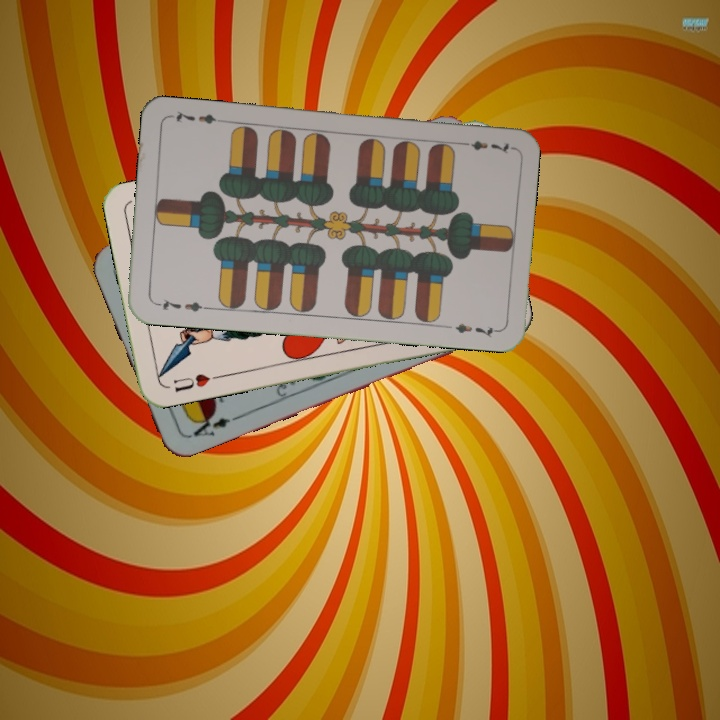E7: (151, 295, 210, 315), (455, 137, 514, 156)
EA: (187, 409, 241, 440)
HU: (169, 369, 222, 395)
